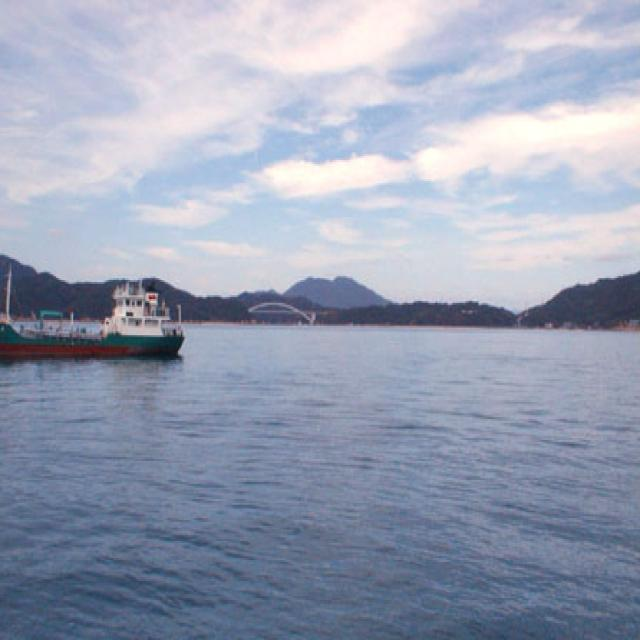fishing boat: (0, 276, 188, 358)
